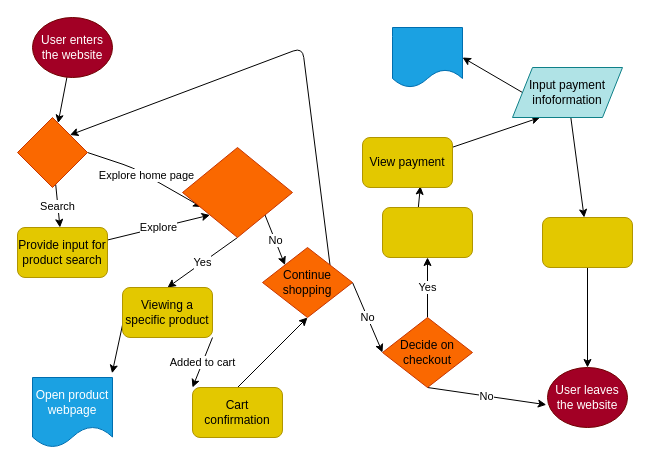
Image size: 650x465. Some labels were removed from this diagram. The centre of each missing label's shape, as x and y in pixels:
Order confirmation: pixel 587 242
Products: pixel 52 152
Send user confirmation email: pixel 427 57
User looks over products: pixel 237 192
View cart: pixel 427 232
